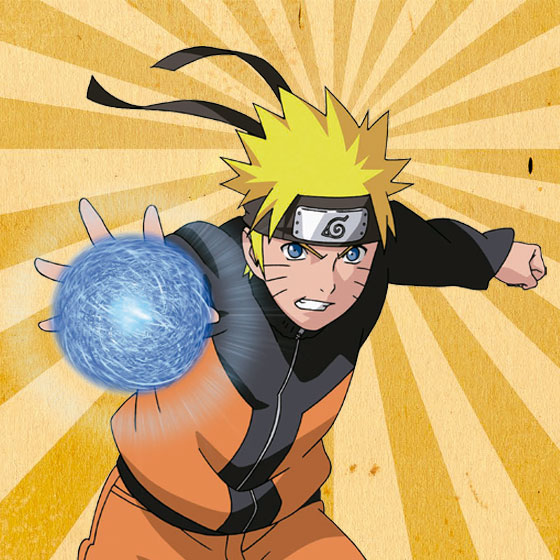naruto: (241, 188, 389, 336)
